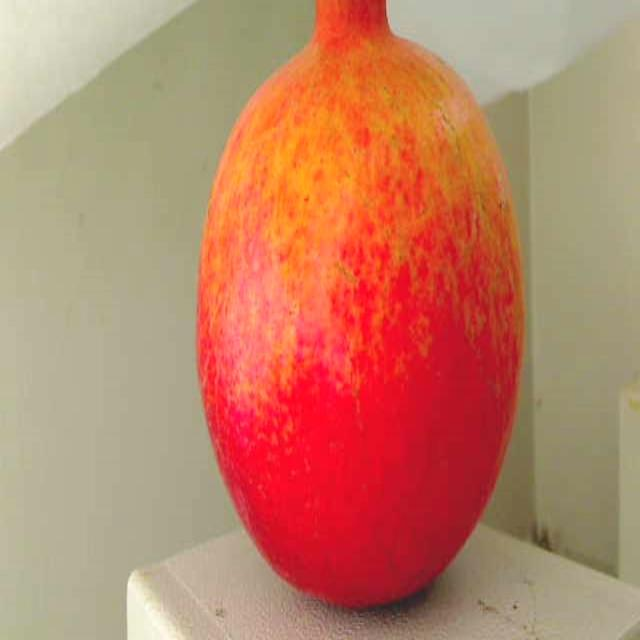pomegranate: (187, 0, 539, 640)
